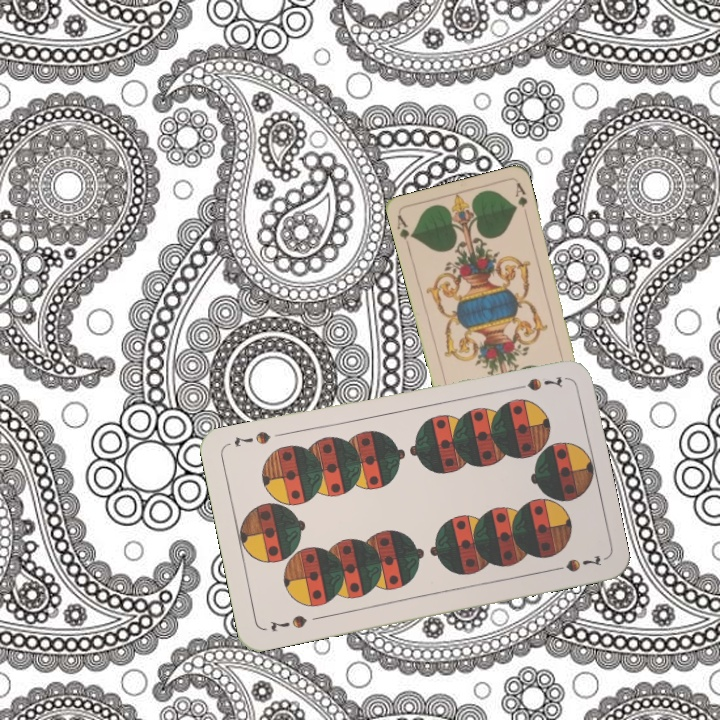GA: (393, 211, 417, 251)
S7: (508, 372, 565, 394), (266, 611, 310, 634)
